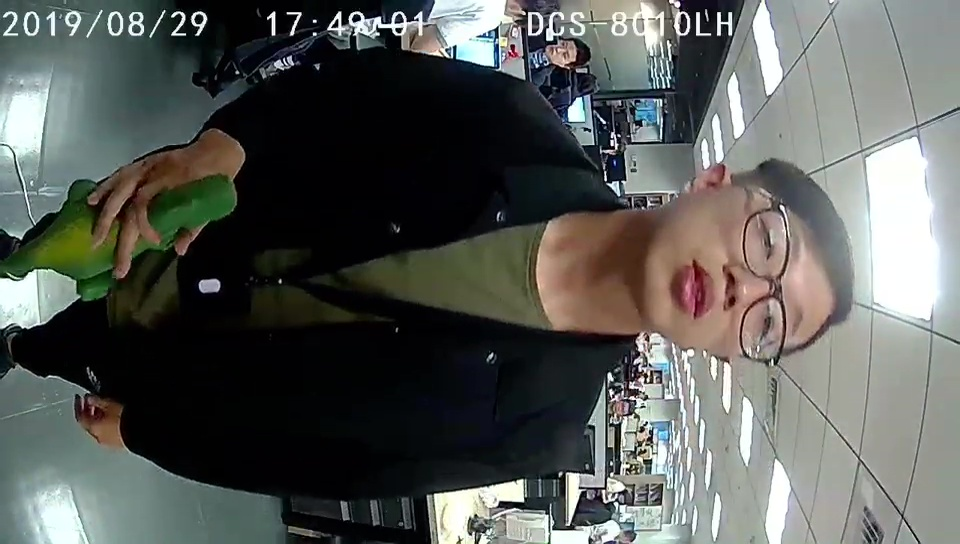rex: (26, 174, 239, 303)
